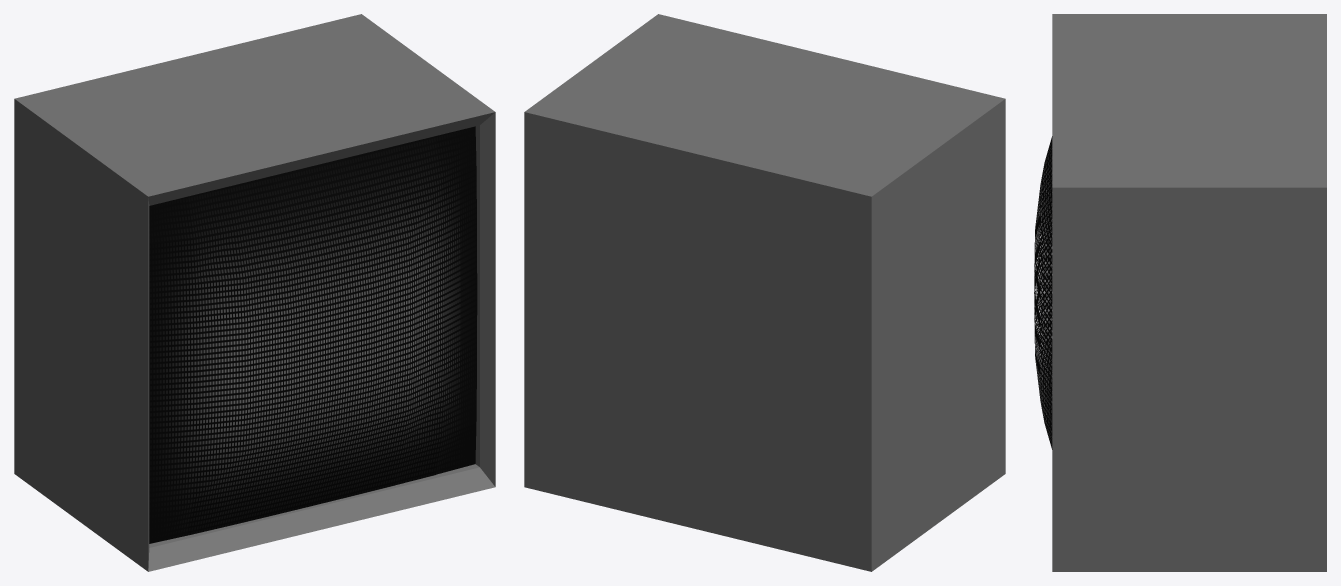
File: screen_bg.glb
3 renders of one model, left to right at view 1: azimuth 30°, elevation 25°; view 2: azimuth 150°, elevation 25°; view 3: azimuth 270°, elevation 25°, orthographic. The views are drawn at different scales.
Parts seen in each view (by area): view 1: screen_bg, alpha_mask; view 2: screen_bg; view 3: screen_bg, alpha_mask.
Part boxes in pixels (x1,y1,x2,y2): screen_bg: [14, 14, 495, 571]; alpha_mask: [149, 126, 477, 543]; screen_bg: [524, 14, 1005, 571]; screen_bg: [1052, 14, 1326, 571]; alpha_mask: [1034, 136, 1052, 449].
Size of what is drawn, in the model's own units: 1.05 by 1.08 by 0.7486.
2 materials, 1 textured.
